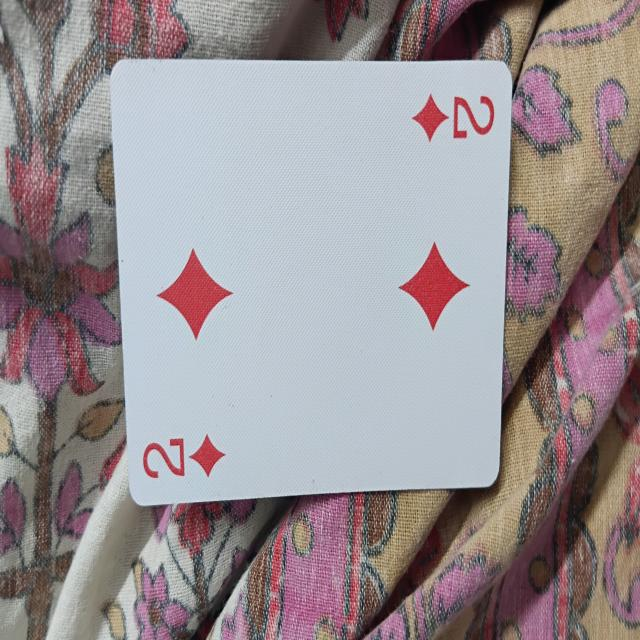2D: (112, 66, 507, 506)
